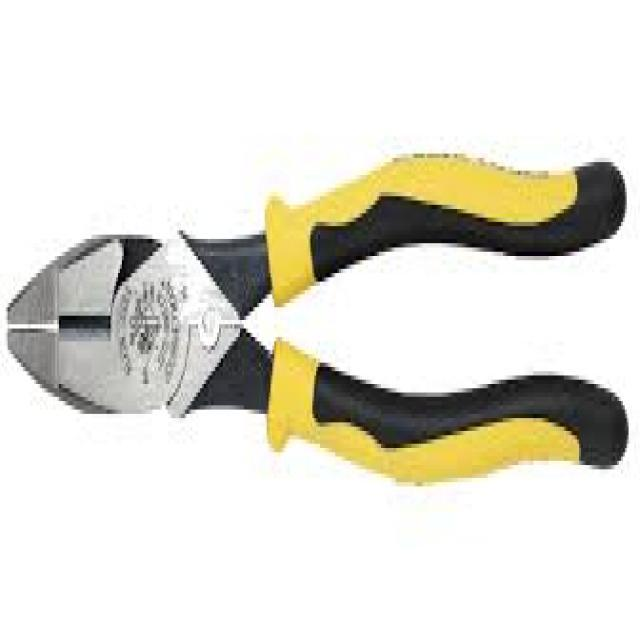pliers: (0, 117, 631, 510)
